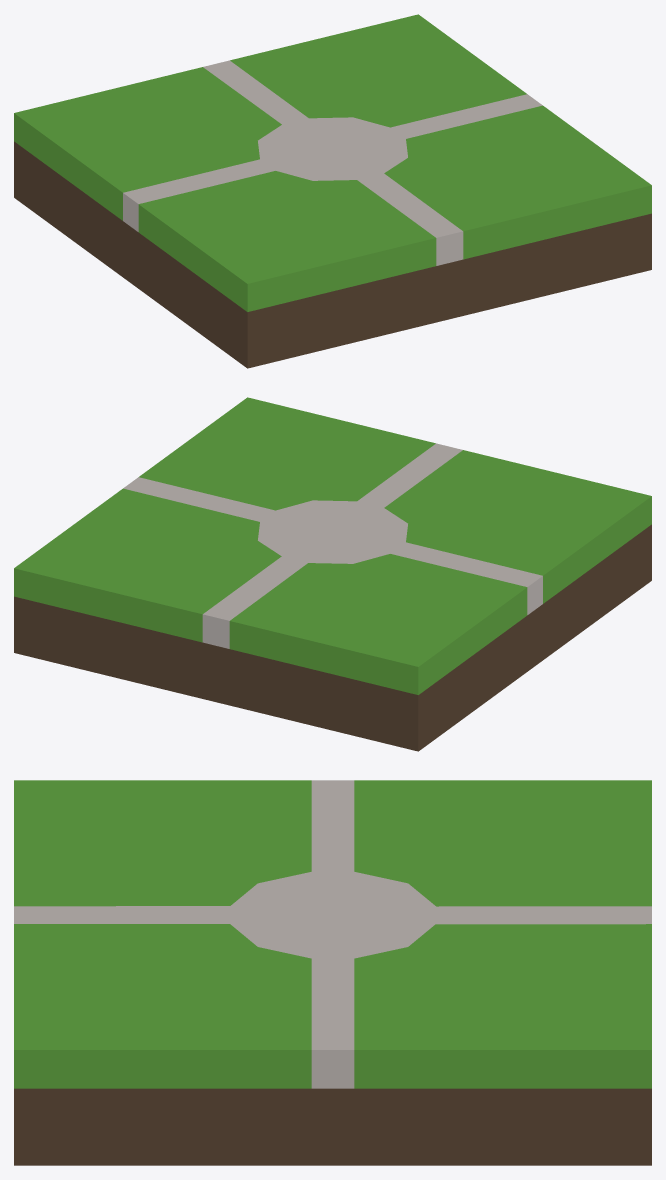
File: tile-park.glb
3 views of the same model, one above another, from view 1: azimuth 30°, elevation 25°; view 2: azimuth 150°, elevation 25°; view 3: azimuth 270°, elevation 25° (orthographic). The views are drawn at different scales.
Visible parts, largest first — view 1: tile-park; view 2: tile-park; view 3: tile-park.
Boxes of the visible parts, bbox=[...] form: tile-park: bbox=[14, 14, 651, 368]; tile-park: bbox=[14, 397, 651, 751]; tile-park: bbox=[14, 780, 651, 1165].
Bounding box in the file's own units: 30 × 6 × 30.
1 material, 1 textured.
